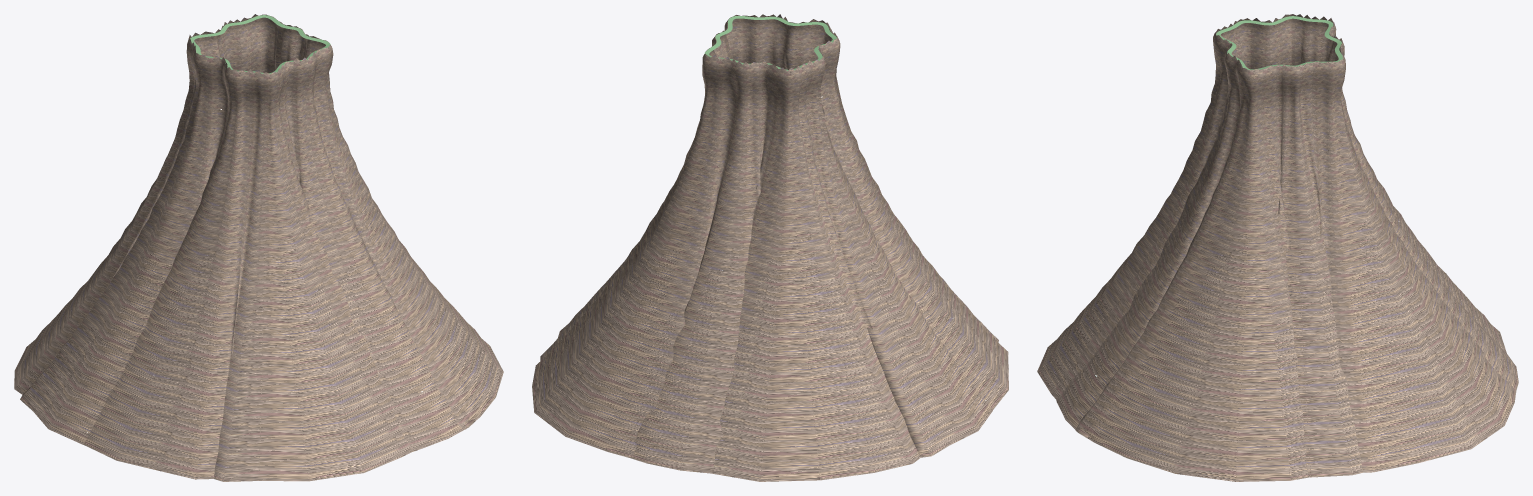
Rendered from CliffWall_stack_02.glb.
The picture shows the model from 3 angles, left to right: view 1: azimuth 30°, elevation 25°; view 2: azimuth 150°, elevation 25°; view 3: azimuth 270°, elevation 25°; orthographic projection.
Visible parts, largest first — view 1: CliffWall_stack_02-rock0, CliffWall_stack_02-lip0; view 2: CliffWall_stack_02-rock0, CliffWall_stack_02-lip0; view 3: CliffWall_stack_02-rock0, CliffWall_stack_02-lip0.
Boxes of the visible parts, x1,y1,x2,y2 form: CliffWall_stack_02-rock0: (14, 14, 503, 481); CliffWall_stack_02-lip0: (190, 15, 330, 73); CliffWall_stack_02-rock0: (532, 14, 1008, 481); CliffWall_stack_02-lip0: (704, 16, 836, 70); CliffWall_stack_02-rock0: (1037, 14, 1518, 481); CliffWall_stack_02-lip0: (1216, 16, 1343, 69).
Bounding box in the file's own units: 923 × 716 × 919.
4 materials, 1 textured.
